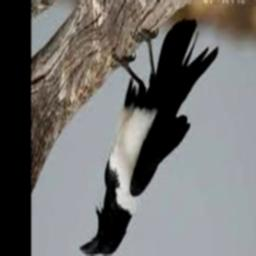Crow: (79, 17, 219, 256)
